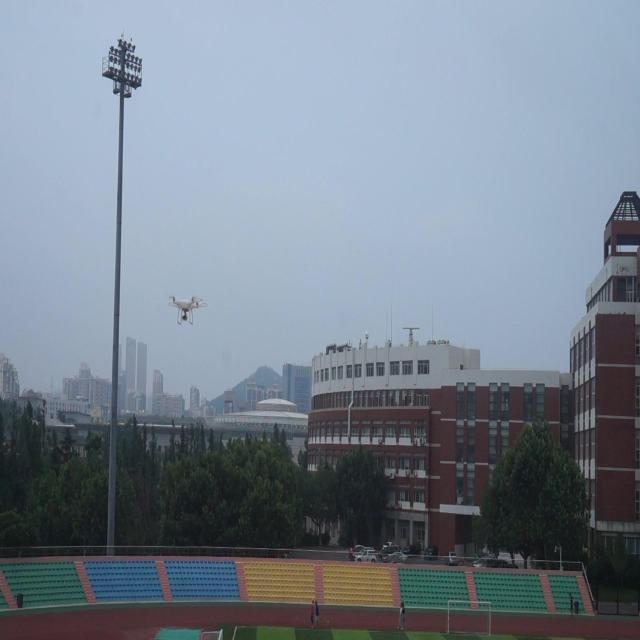drone: (169, 292, 209, 330)
